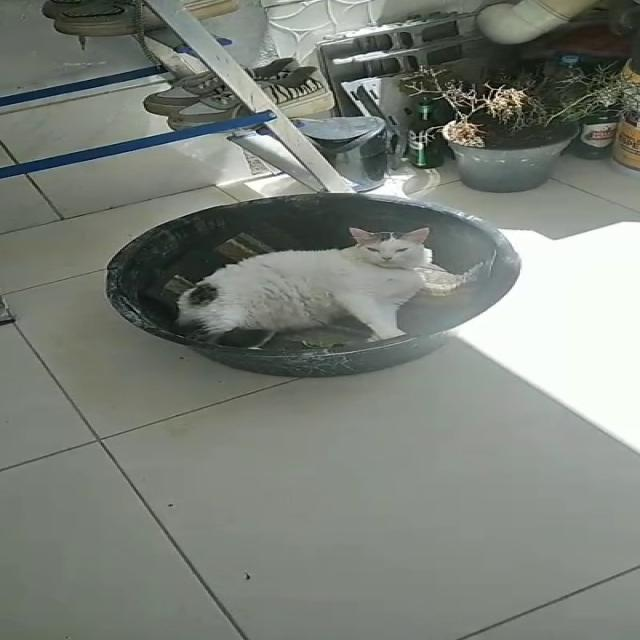Simba: (190, 223, 456, 317)
